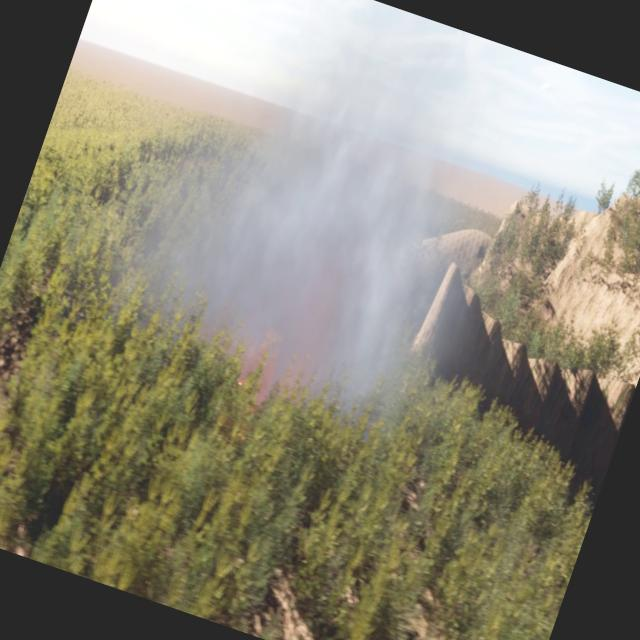smoke: (91, 0, 524, 443)
